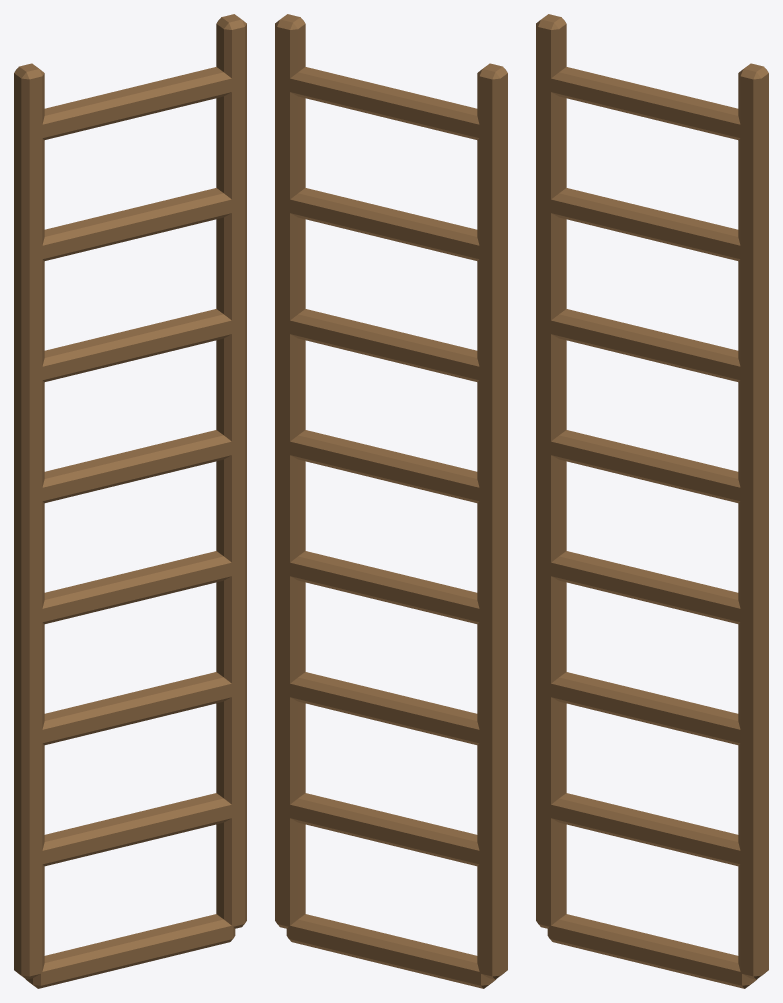
Rendered from harbor-dock-ladder.lod0.glb.
3 views of the same model, side by side, from view 1: azimuth 30°, elevation 25°; view 2: azimuth 150°, elevation 25°; view 3: azimuth 330°, elevation 25° (orthographic).
Parts seen in each view (by area): view 1: harbor-dock-ladder__body; view 2: harbor-dock-ladder__body; view 3: harbor-dock-ladder__body.
Boxes of the visible parts, left/top/right/bottom form: harbor-dock-ladder__body: left=14, top=14, right=246, bottom=988; harbor-dock-ladder__body: left=275, top=14, right=507, bottom=988; harbor-dock-ladder__body: left=536, top=14, right=768, bottom=988.
Size of the model in its own units: 0.78 by 3.04 by 0.08.
